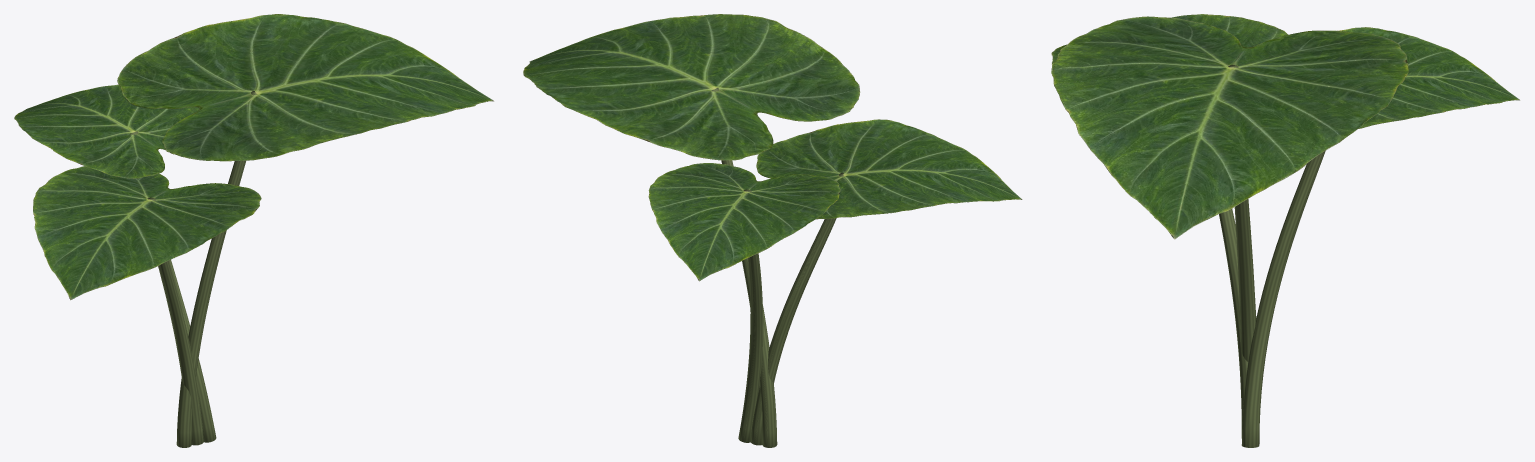
The model's file is taro-macro.glb.
The picture shows the model from 3 angles, left to right: view 1: azimuth 30°, elevation 25°; view 2: azimuth 150°, elevation 25°; view 3: azimuth 270°, elevation 25°; orthographic projection. The views are drawn at different scales.
Parts seen in each view (by area): view 1: leaf, petiole; view 2: leaf, petiole; view 3: leaf, petiole.
Part boxes in pixels (<box>): leaf: <box>14,14,494,299</box>; petiole: <box>130,91,256,447</box>; leaf: <box>523,14,1022,281</box>; petiole: <box>711,88,843,447</box>; leaf: <box>1051,14,1520,239</box>; petiole: <box>1219,65,1325,447</box>.
Bounding box in the file's own units: 0.639 × 0.4642 × 0.478.
Materials: 4 (3 with a texture image).
